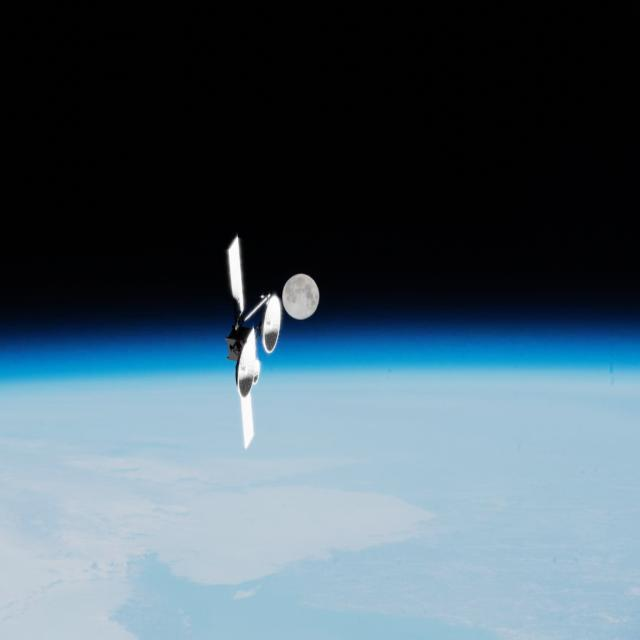satellite: (206, 193, 294, 456)
